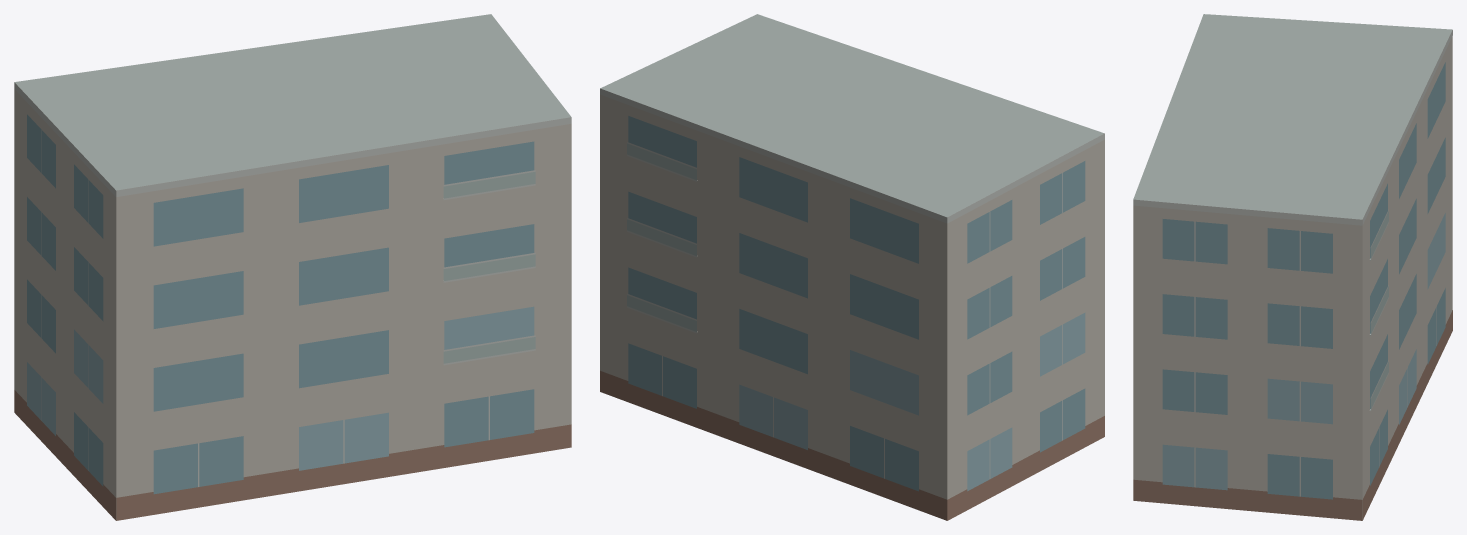
The model's file is survey-upis-32707759.glb.
3 views of the same model, side by side, from view 1: azimuth 30°, elevation 25°; view 2: azimuth 150°, elevation 25°; view 3: azimuth 270°, elevation 25° (orthographic). The views are drawn at different scales.
Visible parts, largest first — view 1: survey-upis-32707759.tmp; view 2: survey-upis-32707759.tmp; view 3: survey-upis-32707759.tmp.
Boxes of the visible parts, <box> form: survey-upis-32707759.tmp: <box>14,14,571,520</box>; survey-upis-32707759.tmp: <box>600,14,1104,520</box>; survey-upis-32707759.tmp: <box>1133,14,1452,520</box>.
Bounding box in the file's own units: 17.88 × 12.2 × 11.74.
